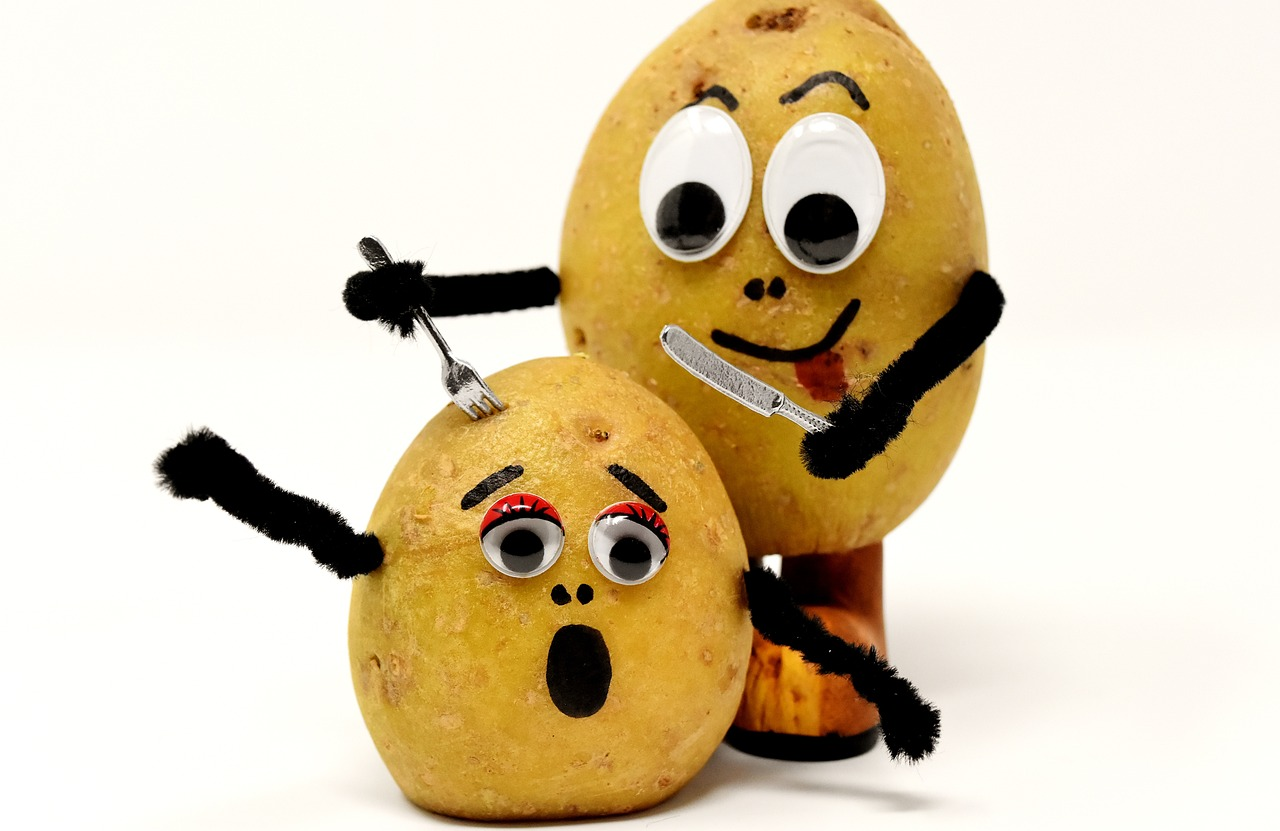knife: (645, 323, 845, 446)
